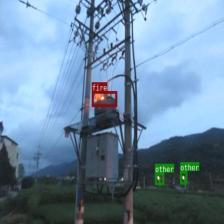fire: (91, 91, 117, 106)
